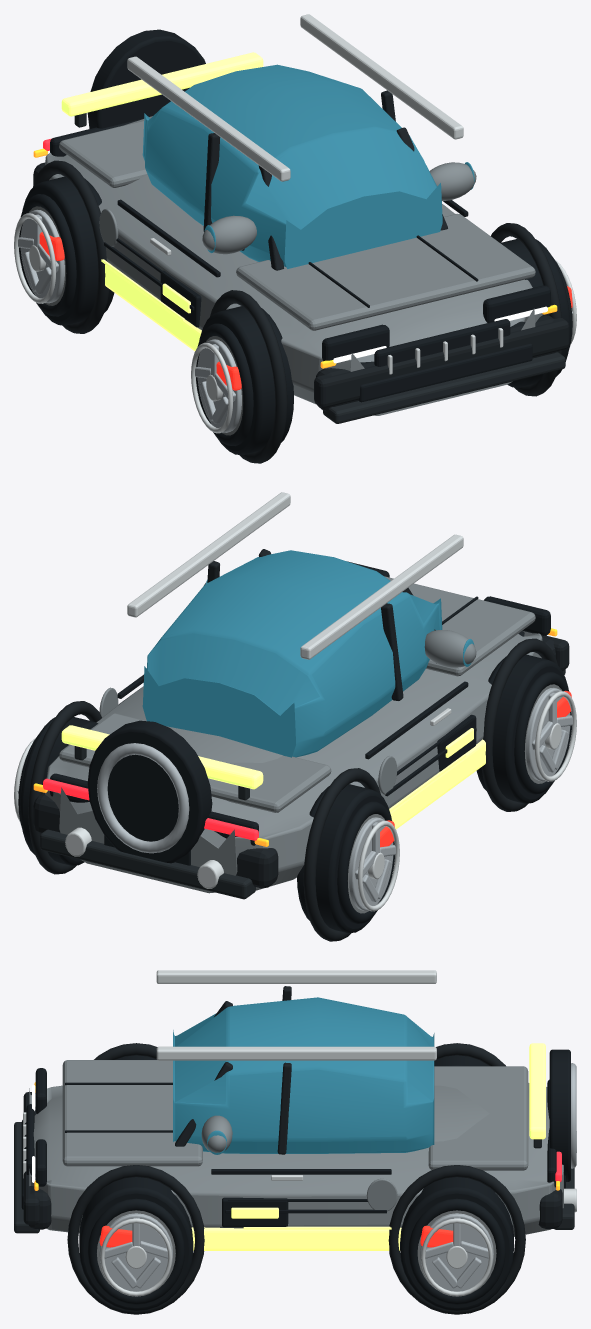
Rendered from suv.glb.
3 renders of one model, top to bottom at view 1: azimuth 30°, elevation 25°; view 2: azimuth 150°, elevation 25°; view 3: azimuth 270°, elevation 25°, orthographic. The views are drawn at different scales.
Parts seen in each view (by area): view 1: continuous smoked glass cabin.003, sculpted one-piece body shell.003, front hood skin.003, rear spare tire, front bull bar, left wheel tire.006, left wheel tire.007, front carbon splitter.003, rear deck skin.003, rear spoiler blade.003, left roof rail, right roof rail (+22 smaller); view 2: continuous smoked glass cabin.003, sculpted one-piece body shell.003, rear spare tire, rear deck skin.003, left wheel tire.007, front hood skin.003, left wheel tire.006, rear diffuser center.003, rear spare wheel bead, left roof rail, right roof rail, left rear fender arch bead.003 (+22 smaller); view 3: continuous smoked glass cabin.003, sculpted one-piece body shell.003, front hood skin.003, rear deck skin.003, right wheel tire.006, right wheel tire.007, right aerodynamic side sill.003, right roof rail, right front fender arch bead.003, right rear fender arch bead.003, left roof rail, right tire sidewall bead.006 (+33 smaller).
Boxes of the visible parts, x1,y1,x2,y2 form: continuous smoked glass cabin.003: (142, 64, 442, 268); sculpted one-piece body shell.003: (45, 116, 542, 415); front hood skin.003: (236, 213, 535, 330); rear spare tire: (87, 29, 205, 128); front bull bar: (314, 317, 569, 407); left wheel tire.006: (199, 306, 293, 455); left wheel tire.007: (22, 176, 114, 325); front carbon splitter.003: (323, 352, 565, 423); rear deck skin.003: (59, 120, 147, 187); rear spoiler blade.003: (61, 52, 263, 116); left roof rail: (127, 56, 290, 181); right roof rail: (300, 14, 463, 139); continuous smoked glass cabin.003: (142, 550, 442, 757); sculpted one-piece body shell.003: (45, 631, 542, 893); rear spare tire: (87, 720, 212, 863); rear deck skin.003: (59, 713, 331, 812); left wheel tire.007: (297, 784, 391, 933); front hood skin.003: (384, 576, 535, 676); left wheel tire.006: (476, 654, 568, 803); rear diffuser center.003: (40, 829, 255, 899); rear spare wheel bead: (97, 743, 189, 853); left roof rail: (300, 534, 463, 659); right roof rail: (127, 492, 290, 617); left rear fender arch bead.003: (303, 768, 380, 941); continuous smoked glass cabin.003: (173, 997, 434, 1153); sculpted one-piece body shell.003: (29, 1083, 563, 1236); front hood skin.003: (62, 1060, 202, 1166); rear deck skin.003: (428, 1066, 528, 1170); right wheel tire.006: (79, 1177, 193, 1310); right wheel tire.007: (400, 1177, 513, 1310); right aerodynamic side sill.003: (191, 1227, 401, 1250); right roof rail: (156, 1046, 436, 1060); right front fender arch bead.003: (67, 1165, 204, 1314); right rear fender arch bead.003: (388, 1165, 525, 1314); left roof rail: (156, 970, 436, 983); right tire sidewall bead.006: (87, 1198, 184, 1304).
Bounding box in the file's own units: 3.13 × 2.31 × 4.83.
